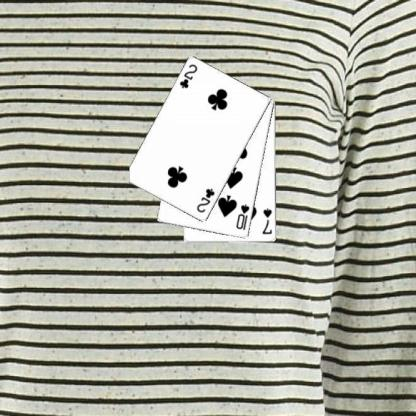10S: (234, 202, 251, 232)
2C: (194, 186, 216, 214), (176, 62, 198, 90)
7S: (260, 206, 273, 235)
